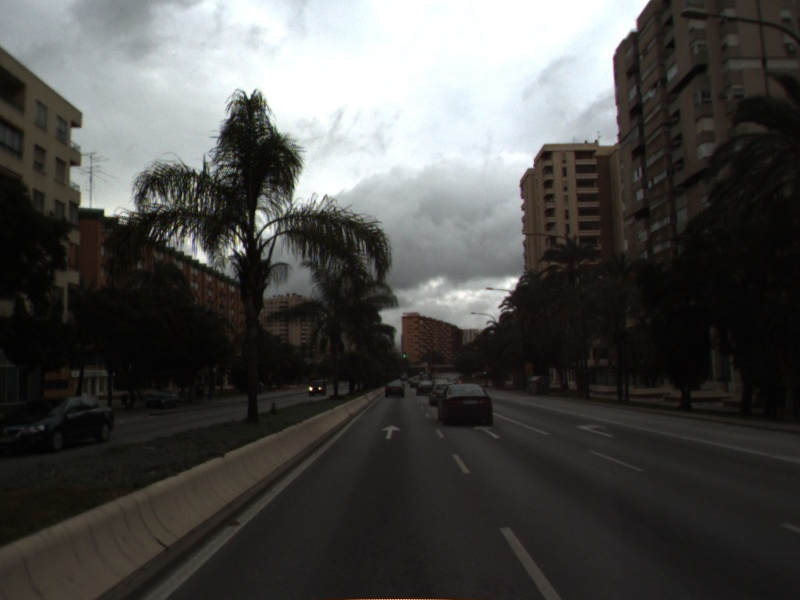RIGHT: (573, 420, 617, 439)
STRAIGHT: (379, 422, 404, 442), (472, 424, 502, 440)
